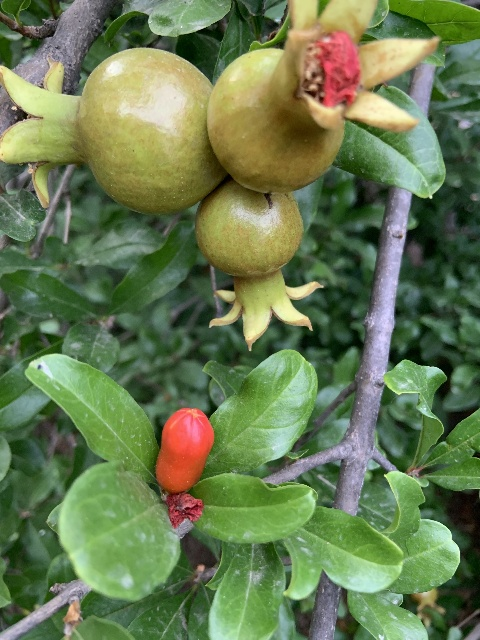bud: (155, 407, 213, 493)
early-fruit: (0, 47, 221, 216), (409, 586, 447, 624)
mid-growth: (208, 0, 436, 190), (0, 48, 217, 216), (196, 181, 323, 350)
